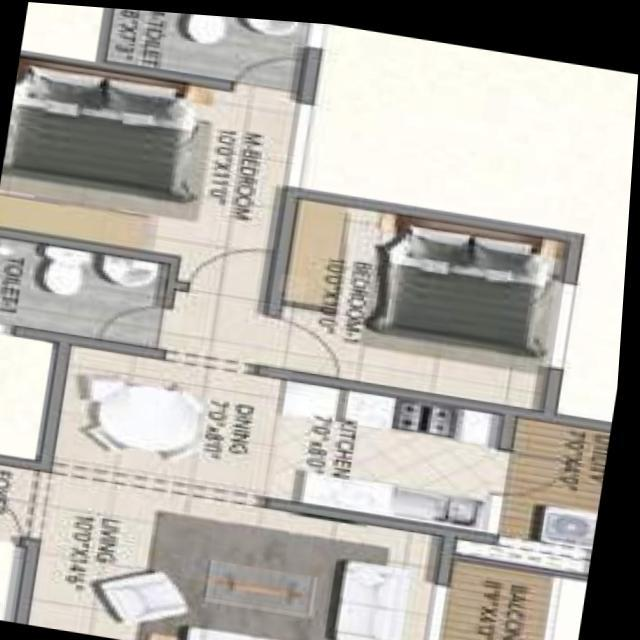Balcony-Sitout: (453, 549, 564, 640)
Bedroom: (264, 183, 584, 403)
Bedroom with Toilet: (0, 6, 315, 270)
Dining: (70, 358, 222, 467)
Enterance-Foyer: (0, 455, 48, 546)
Kitchen: (270, 378, 517, 527)
Living: (33, 470, 447, 640)
Toilet: (0, 230, 182, 356), (100, 6, 302, 85)
Utility: (496, 407, 615, 566)
